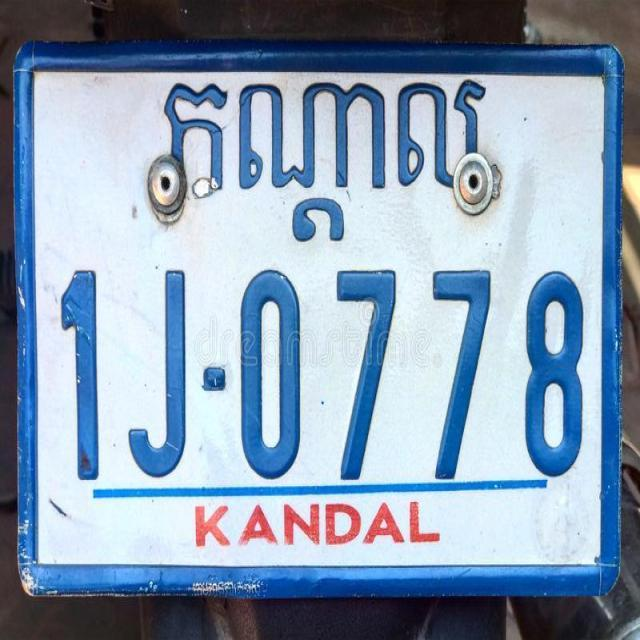Kandal: (160, 77, 486, 243)
